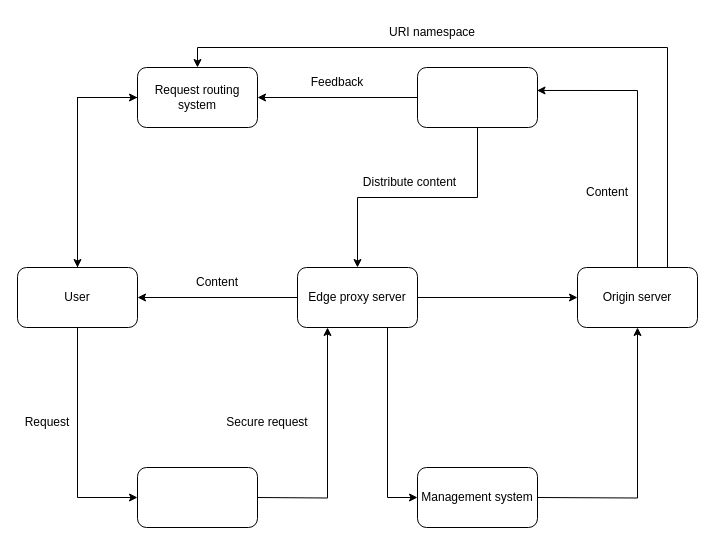
This 715x545 diagram has some shape labels left out. Each missing label, with the centre of its shape:
Distributed system: point (477, 97)
Scrubber server: point (197, 497)
